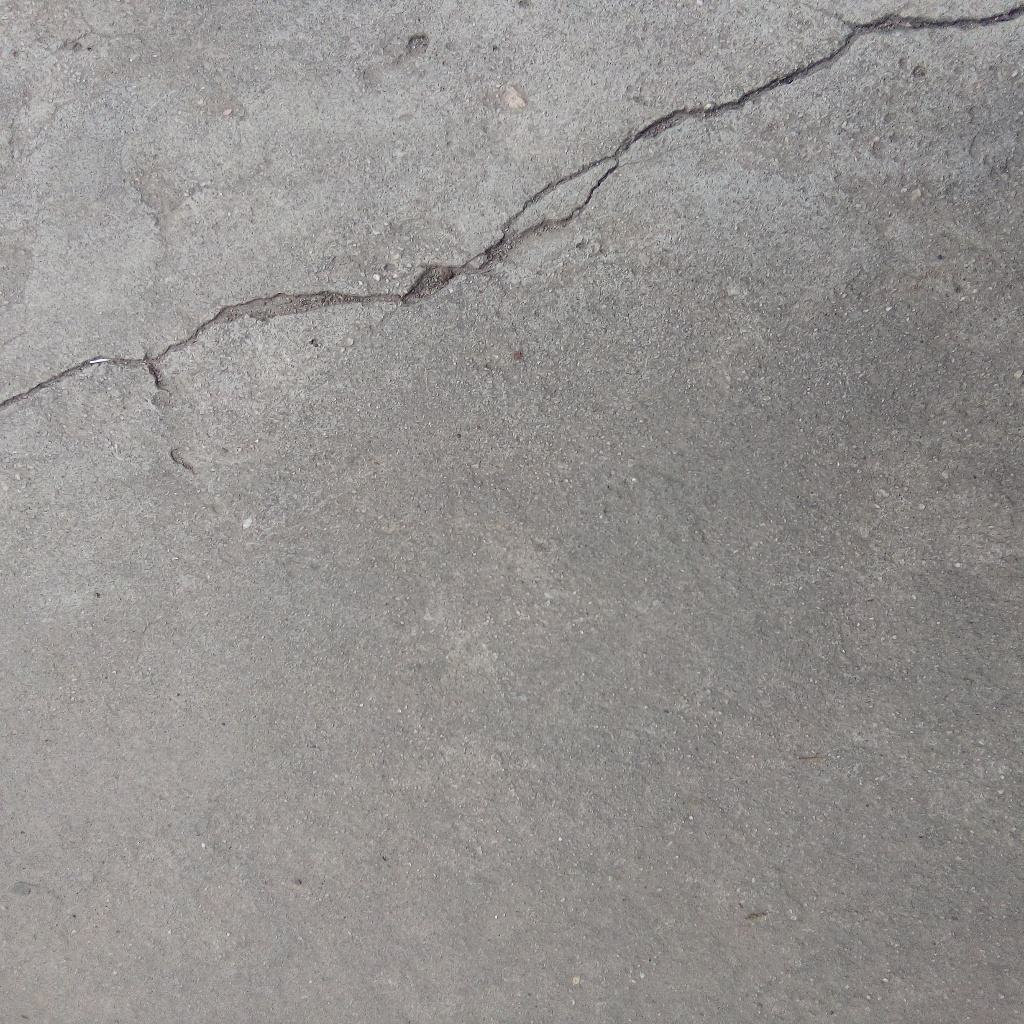Crack: (1, 4, 1024, 410)
